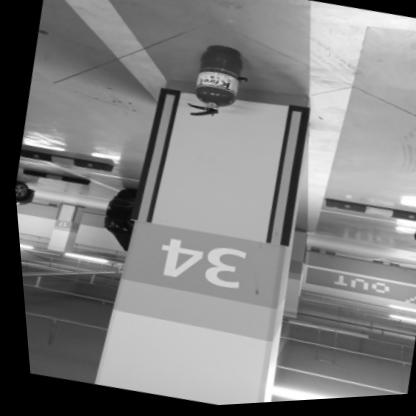FE: (183, 42, 246, 126)
